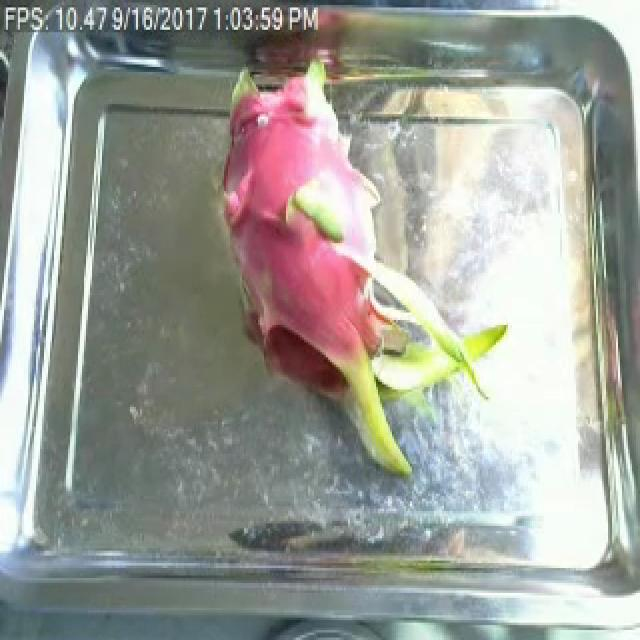fruit: (212, 45, 502, 466)
